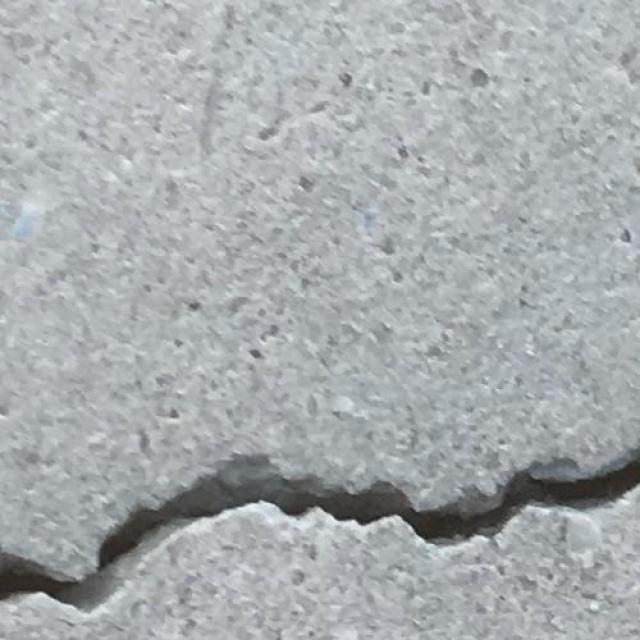horizontal crack: (0, 450, 640, 626)
